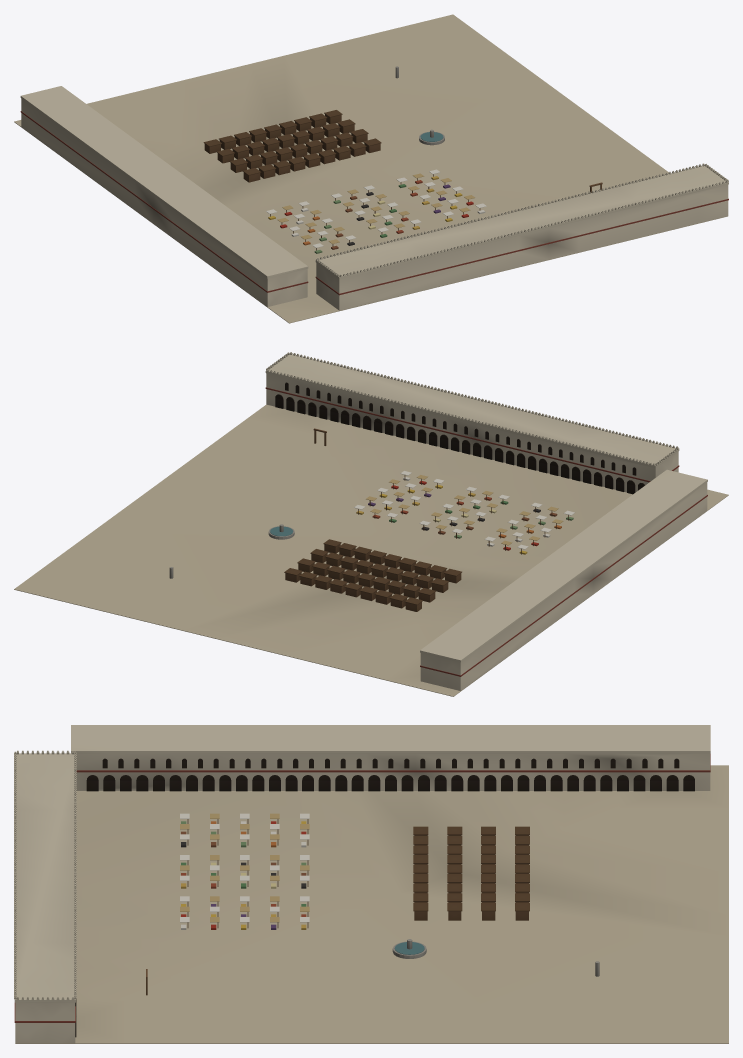
Rendered from plaza-mayor.glb.
3 views of the same model, one above another, from view 1: azimuth 30°, elevation 25°; view 2: azimuth 150°, elevation 25°; view 3: azimuth 270°, elevation 25° (orthographic). The views are drawn at different scales.
Parts seen in each view (by area): view 1: p0_square, p1_portales, p2_market; view 2: p0_square, p1_portales, p2_market; view 3: p0_square, p1_portales, p2_market.
Part boxes in pixels (bbox=[...]): p0_square: bbox=[14, 14, 727, 323]; p1_portales: bbox=[20, 86, 728, 310]; p2_market: bbox=[203, 66, 602, 253]; p0_square: bbox=[14, 404, 728, 696]; p1_portales: bbox=[265, 352, 707, 690]; p2_market: bbox=[169, 428, 574, 611]; p0_square: bbox=[15, 765, 728, 1043]; p1_portales: bbox=[14, 725, 710, 1043]; p2_market: bbox=[146, 813, 599, 995].
Bounding box in the file's own units: 176 × 13.76 × 190.
